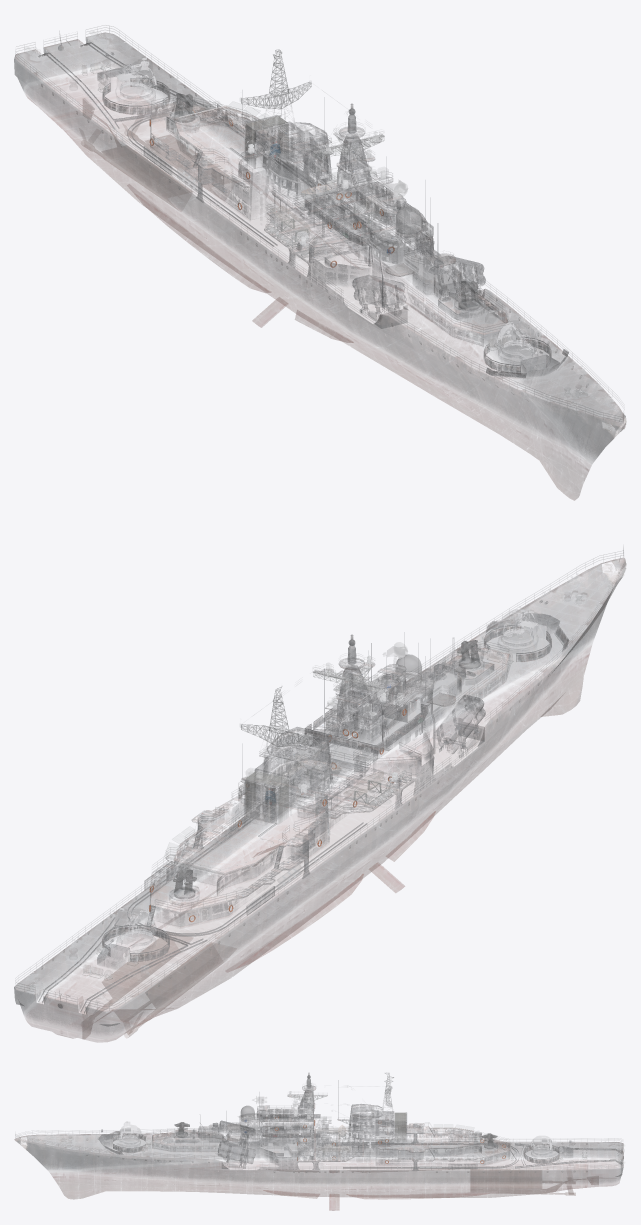
Rendered from sovremenny.glb.
3 renders of one model, top to bottom at view 1: azimuth 30°, elevation 25°; view 2: azimuth 150°, elevation 25°; view 3: azimuth 270°, elevation 25°, orthographic. The views are drawn at different scales.
Visible parts, largest first — view 1: sovremenny; view 2: sovremenny; view 3: sovremenny.
Part boxes in pixels (x1,y1,x2,y2): sovremenny: [14, 28, 626, 500]; sovremenny: [14, 549, 626, 1041]; sovremenny: [14, 1073, 623, 1210].
Size of the model in its own units: 3.35 by 5.26 by 22.74.
Materials: 6 (6 with a texture image).
